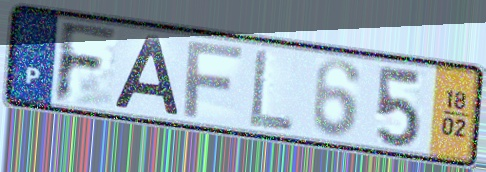5: (372, 61, 427, 151)
6: (309, 56, 363, 141)
A: (109, 32, 182, 117)
F: (51, 18, 121, 106), (181, 39, 245, 121)
L: (246, 46, 297, 134)
